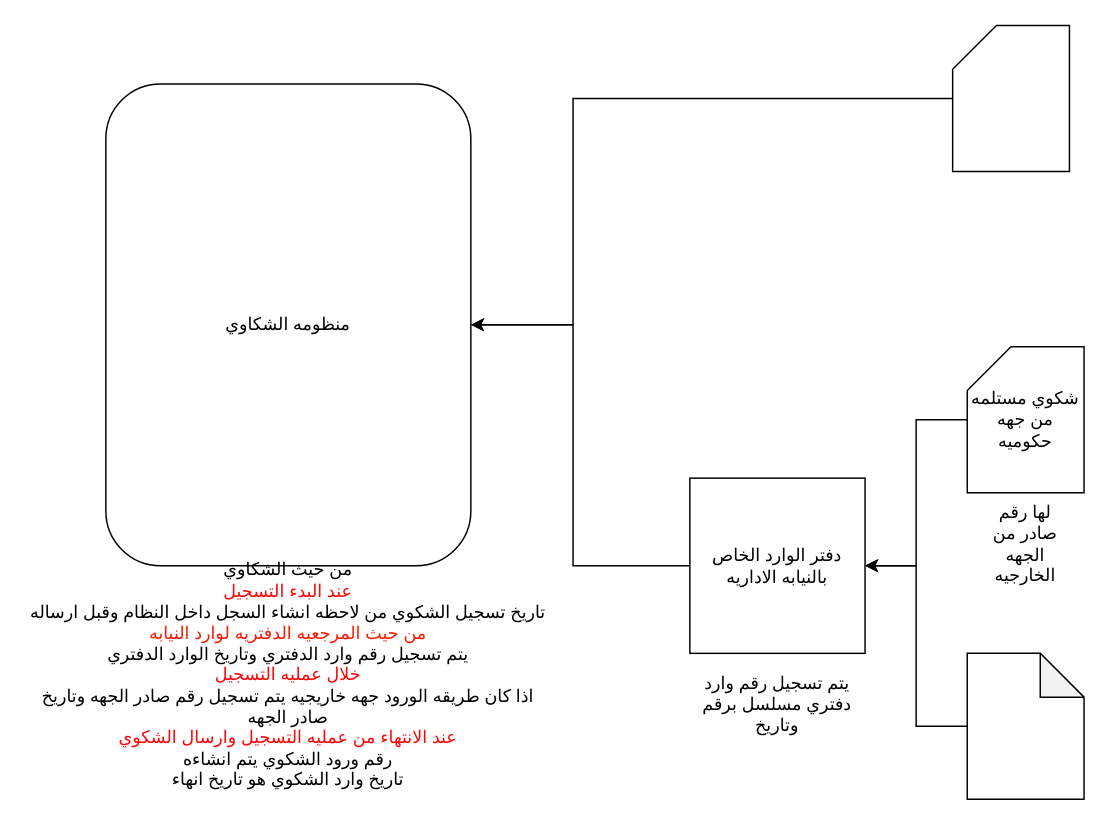
This 1110x840 diagram has some shape labels left out. Here are the shapes that lost their labels. From the top down, the centre of each, then its label:
the point at 1010,98: شكوي مستلمه من وسيله عدا الجهات الحكوميه
the point at 1025,725: وارد خاص بشكوي
